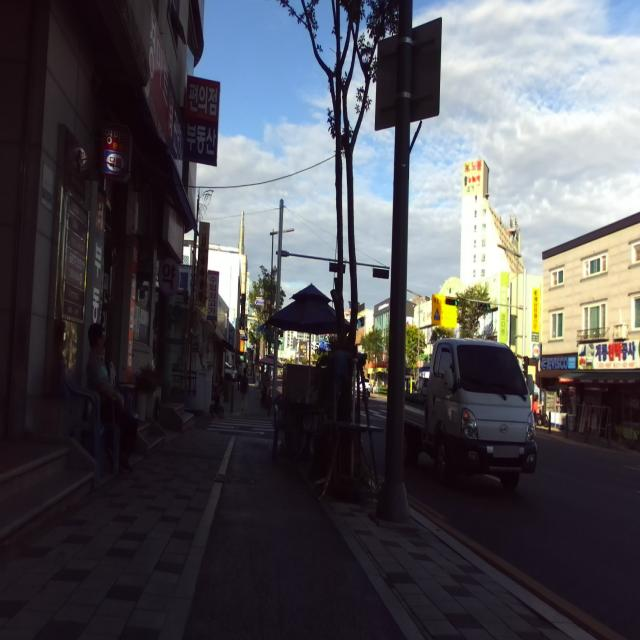횡단보도: (207, 417, 274, 435)
